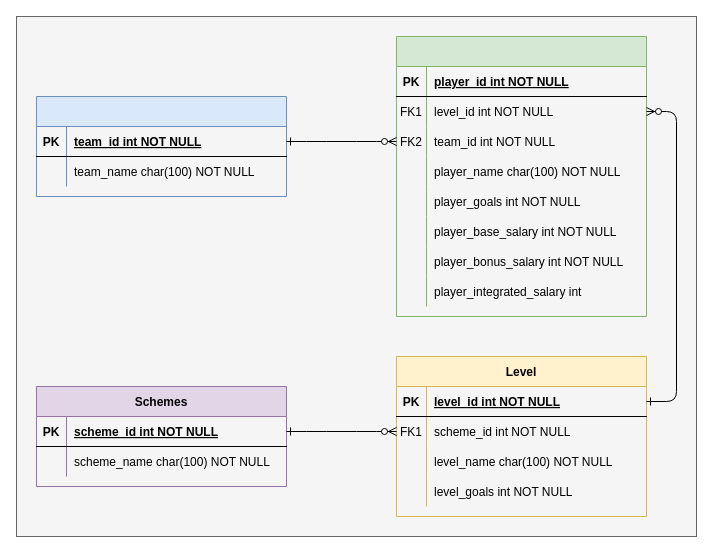
Some shapes in this 713 by 553 pixel diagram are drawn without their labels. The box of each missing label's shape, as (x1, y1, x2, y2) in pixels:
Players: (396, 36, 646, 316)
Teams: (36, 96, 286, 196)
